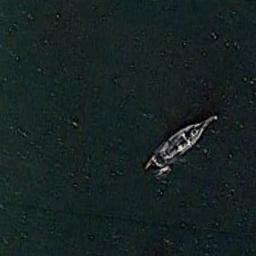boat: (148, 111, 219, 168)
